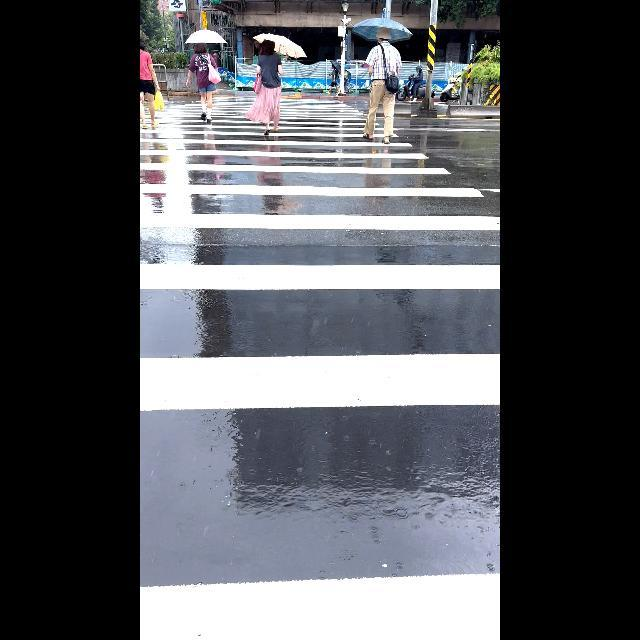sidewalk: (140, 86, 498, 640)
